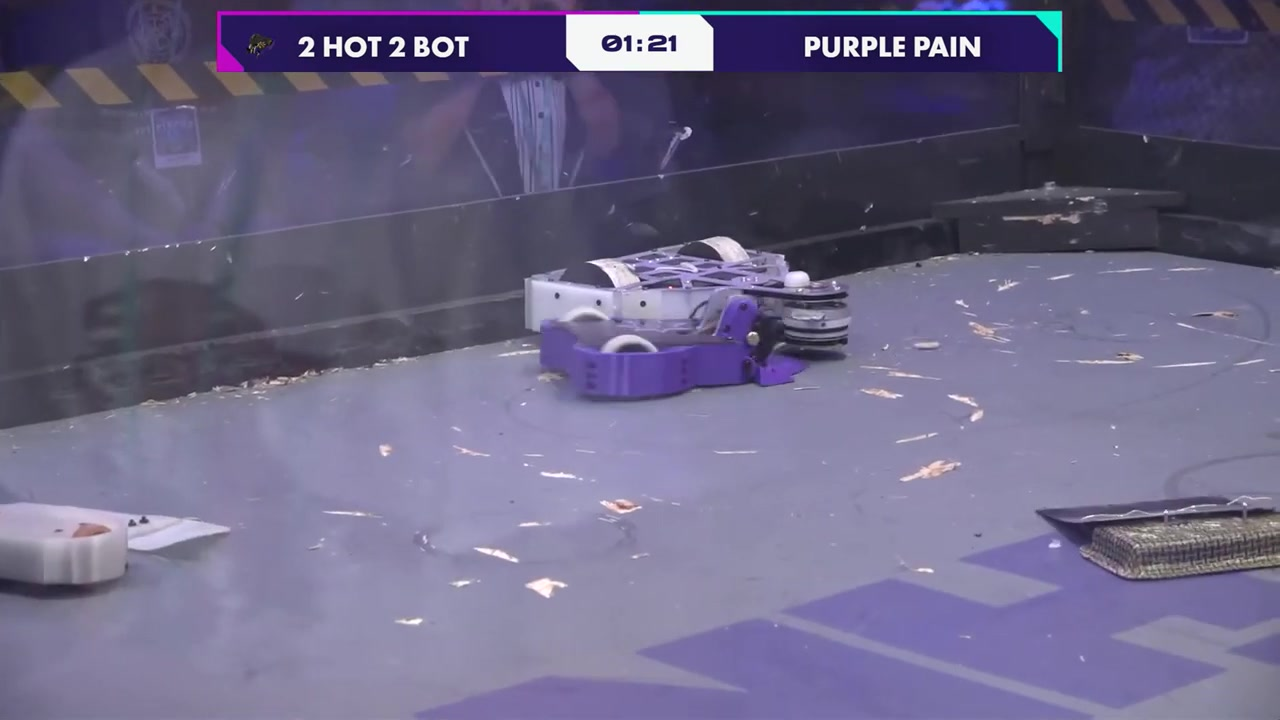combatbot: (527, 235, 851, 359), (544, 293, 811, 395), (0, 496, 228, 598)
minibot: (1034, 495, 1276, 579)
